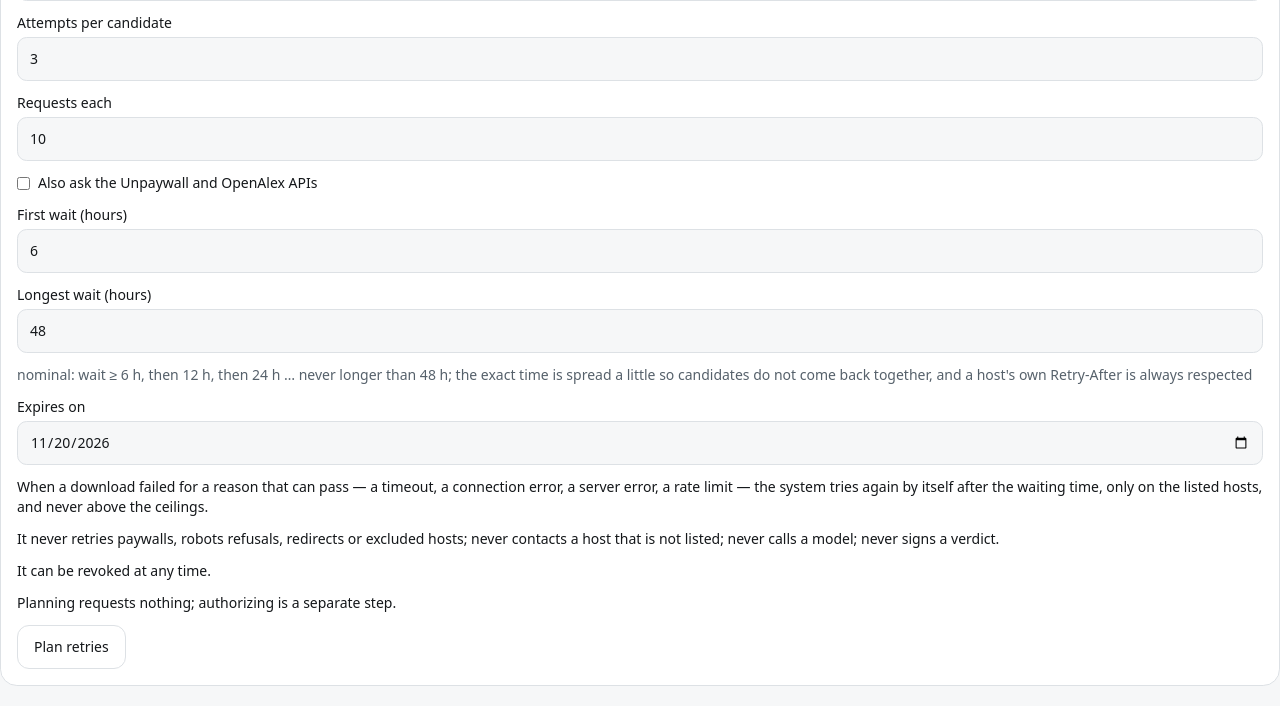
Test: retry policy plan form › shows a busy state and sends exactly one POST on submit
The image size is (1280, 706).
(page scrolled)
Click the button "Plan retries": (71,647) [17, 625, 126, 669]
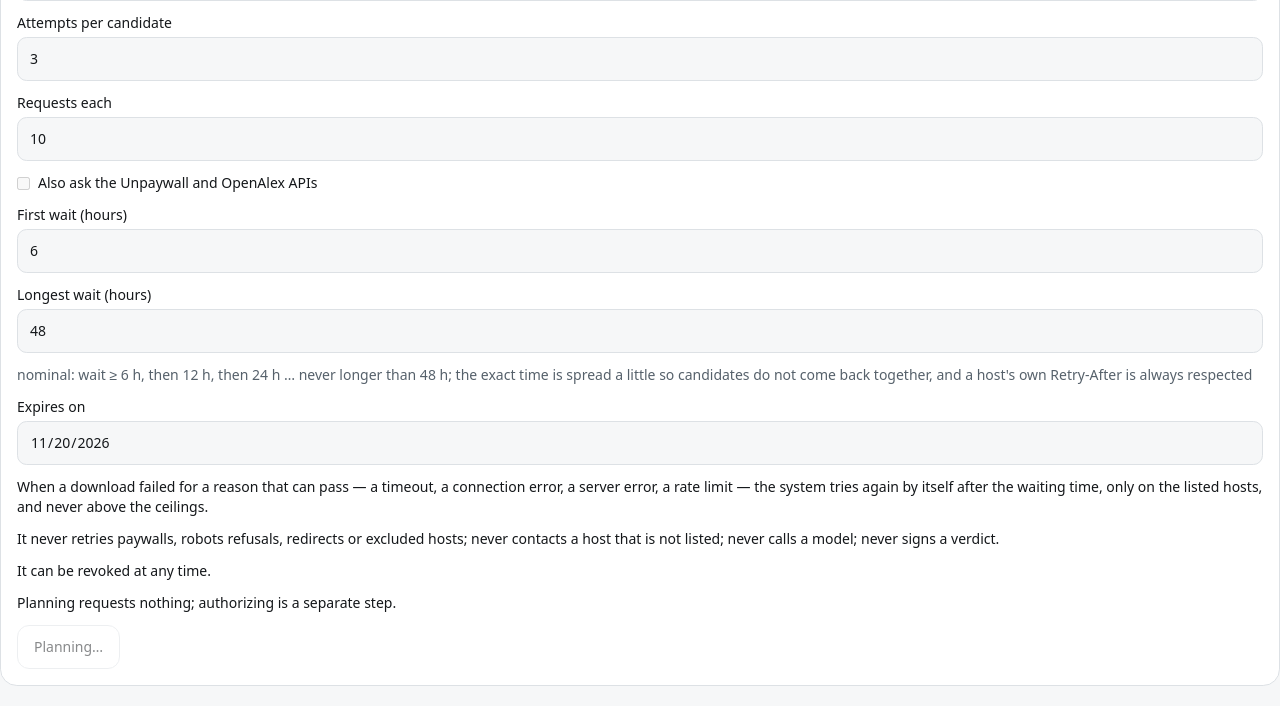
Now the button "Planning…" is disabled
Click the button "Planning…": (69,647) [17, 625, 120, 669]
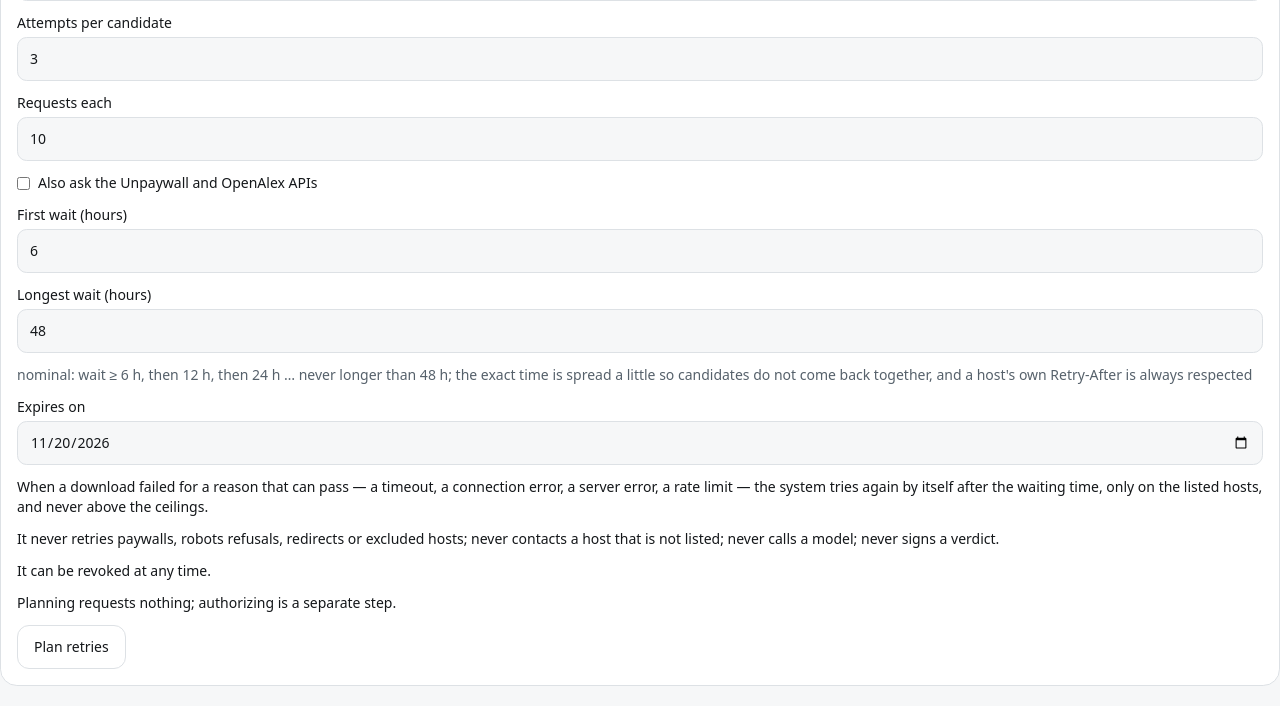
Now the button "Plan retries" is shown, box [17, 625, 126, 669]
